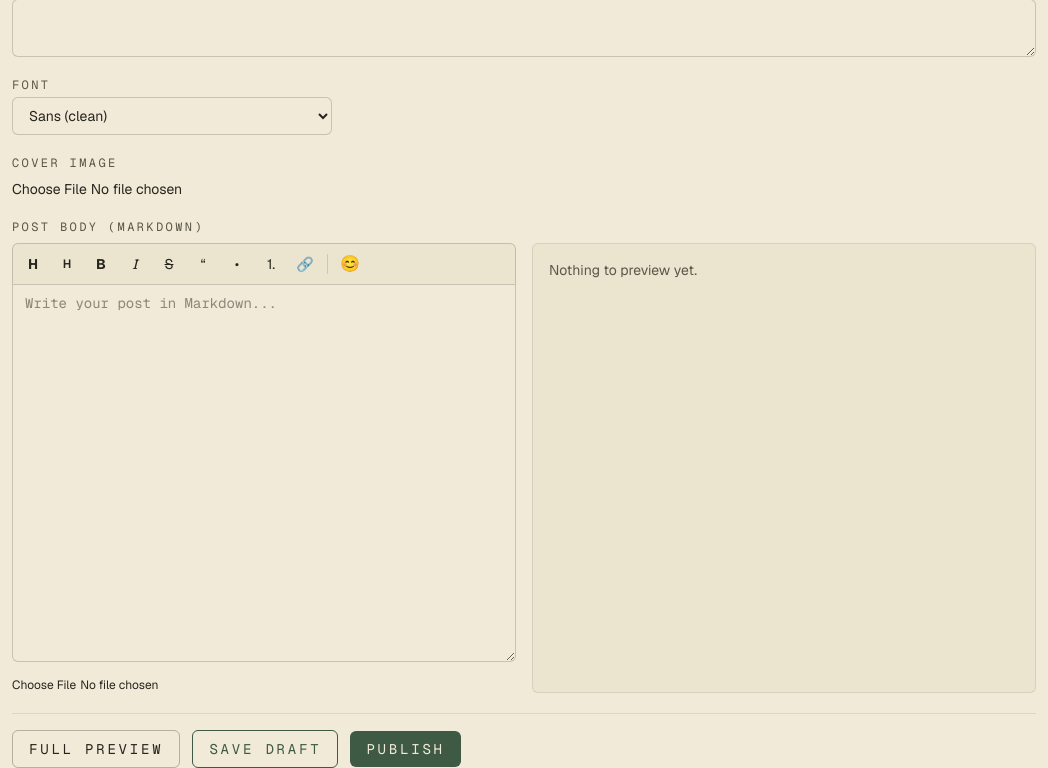
Test: PostEditor › bolds the selected text from the toolbar
The image size is (1048, 768).
(page scrolled)
Type "make me bold" into the text box named "post body" at (264, 473), box [12, 284, 516, 662]
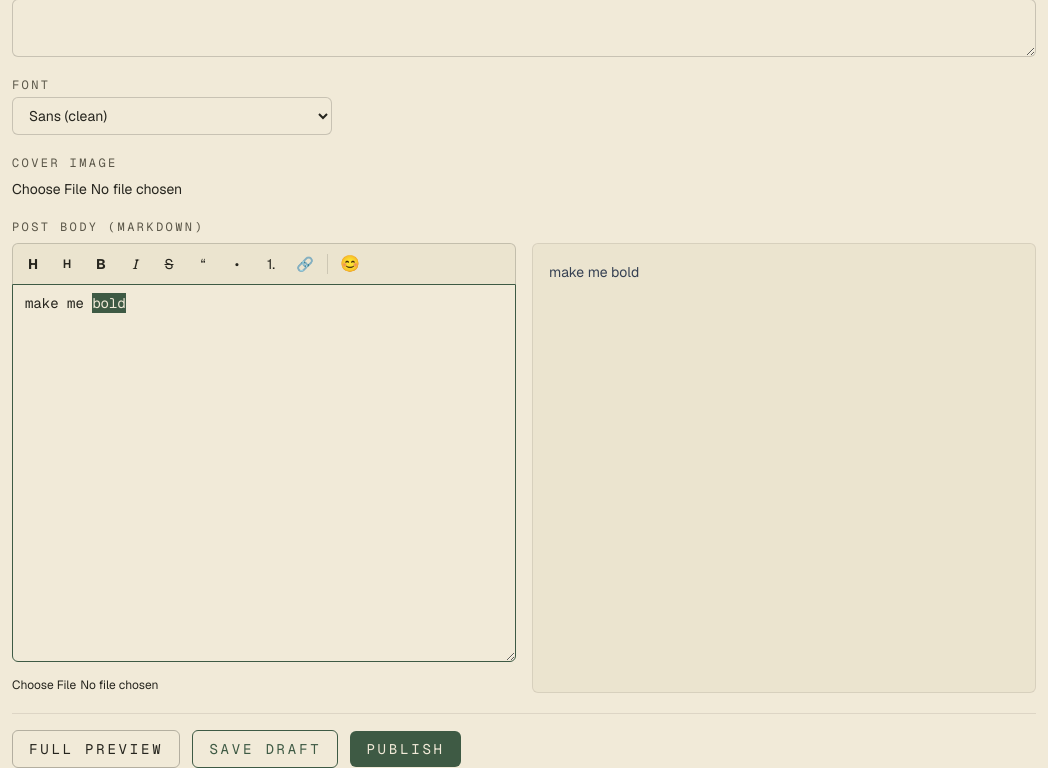
Click the button named "bold" at (101, 264), box [85, 248, 117, 280]
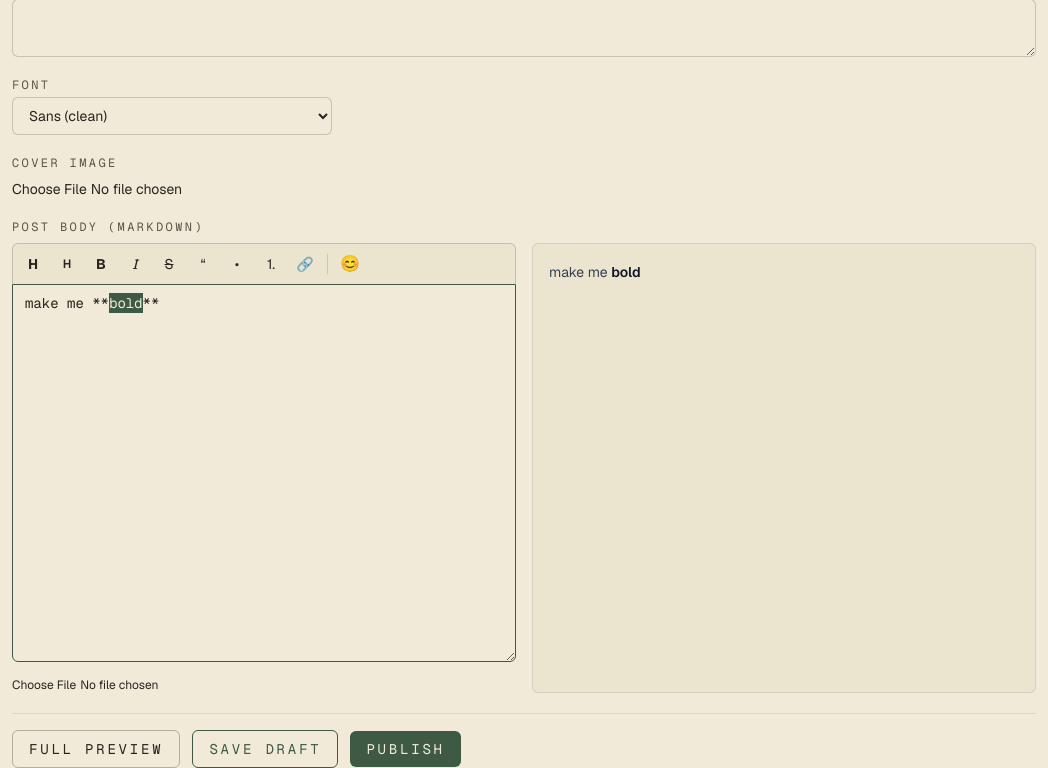
expect the text box named "post body" holds "make me **bold**": met, box [12, 284, 516, 662]
